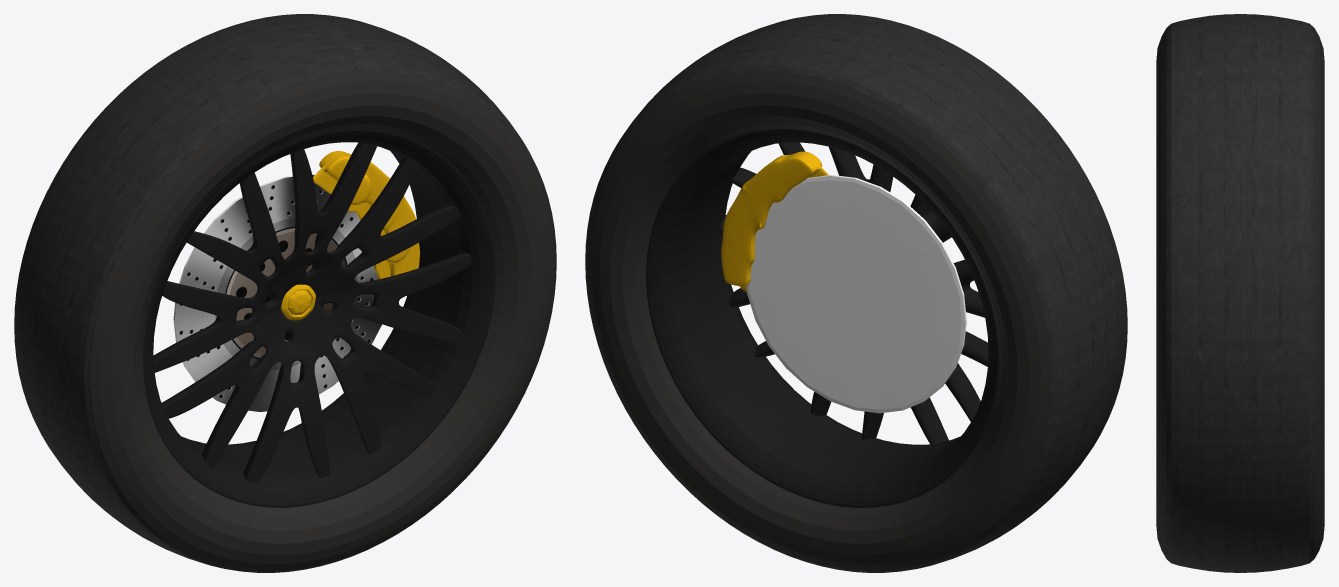
Rendered from Wheel.glb.
3 renders of one model, left to right at view 1: azimuth 30°, elevation 25°; view 2: azimuth 150°, elevation 25°; view 3: azimuth 270°, elevation 25°, orthographic.
Visible parts, largest first — view 1: pneu_traseio.002; view 2: pneu_traseio.002; view 3: pneu_traseio.002.
Part boxes in pixels (x1,y1,x2,y2): pneu_traseio.002: (14, 14, 556, 572); pneu_traseio.002: (585, 14, 1127, 572); pneu_traseio.002: (1156, 14, 1324, 572).
Size of the model in its own units: 0.4873 by 0.4873 by 0.1466.
7 materials, 2 textured.
